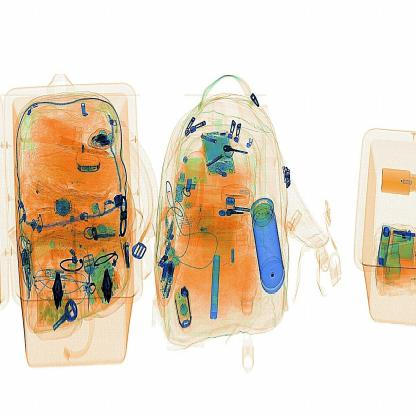pliers: (206, 249, 224, 325)
